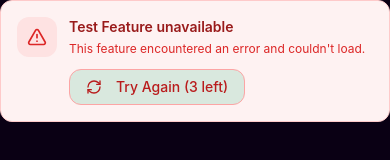
Scenario: FeatureErrorBoundary › shows different message after max retries
Click the button "Try Again (3 left)".
click(157, 87)  # box [69, 69, 245, 105]
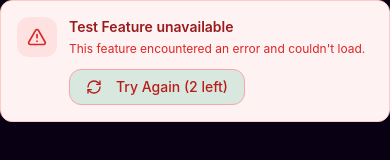
Click the button "Try Again (2 left)".
click(157, 87)  # box [69, 69, 245, 105]
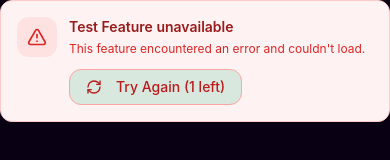
Click the button "Try Again (1 left)".
click(156, 87)  # box [69, 69, 242, 105]
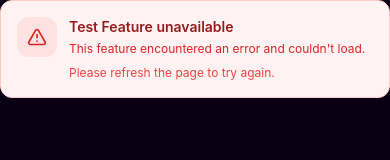
Now the text "Please refresh the page to try again." is shown, box [69, 65, 275, 80]
